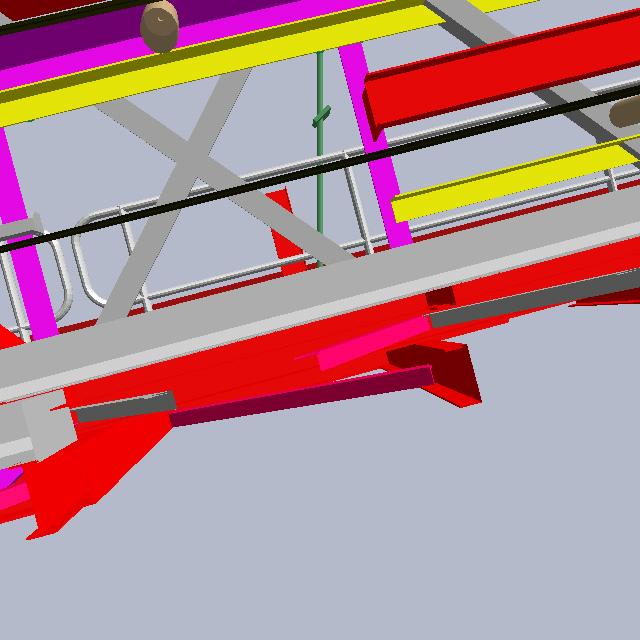Poste: (311, 33, 329, 324)
Soporte: (252, 169, 325, 344)
